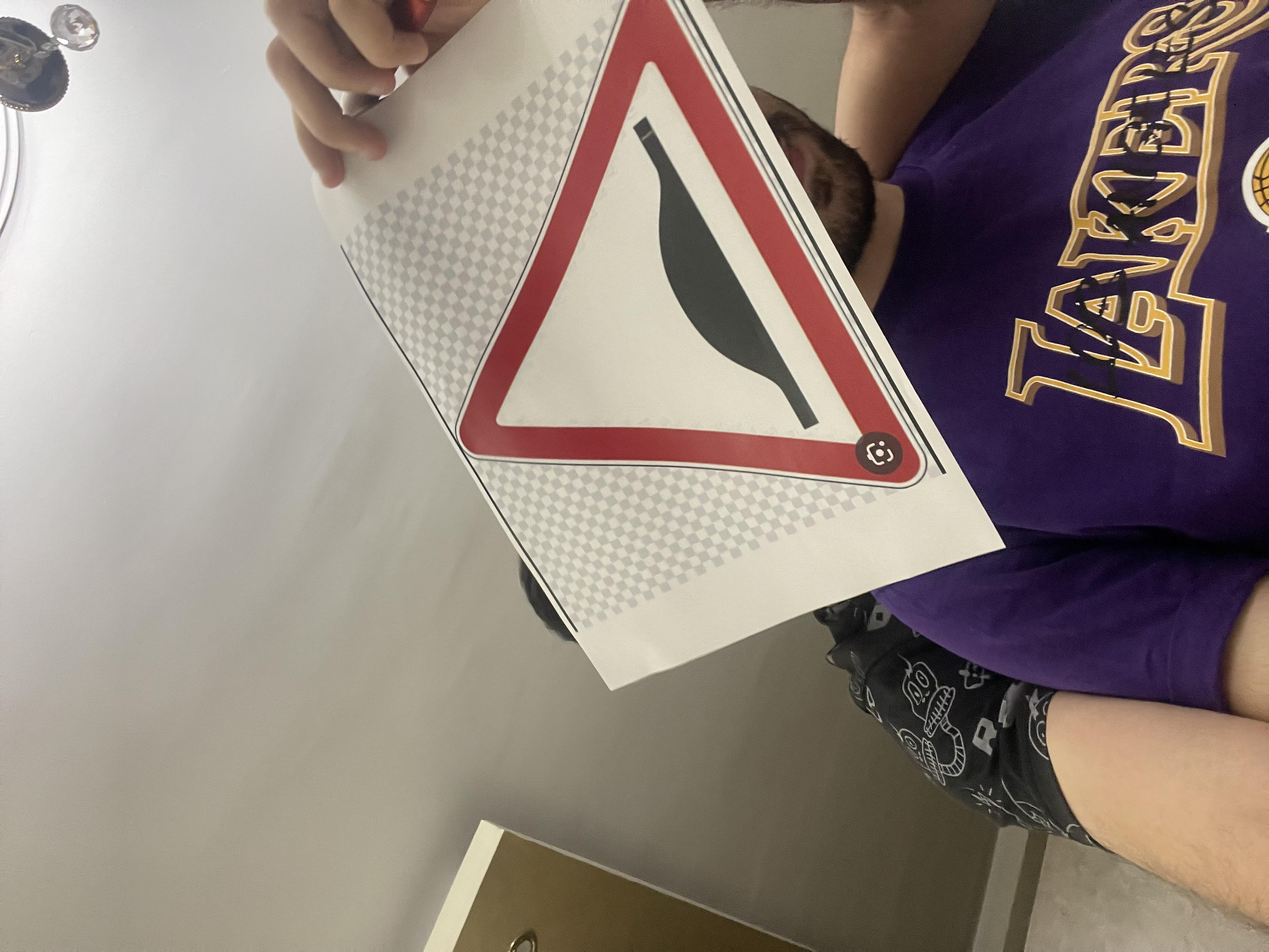Hump: (616, 317, 1269, 708)
